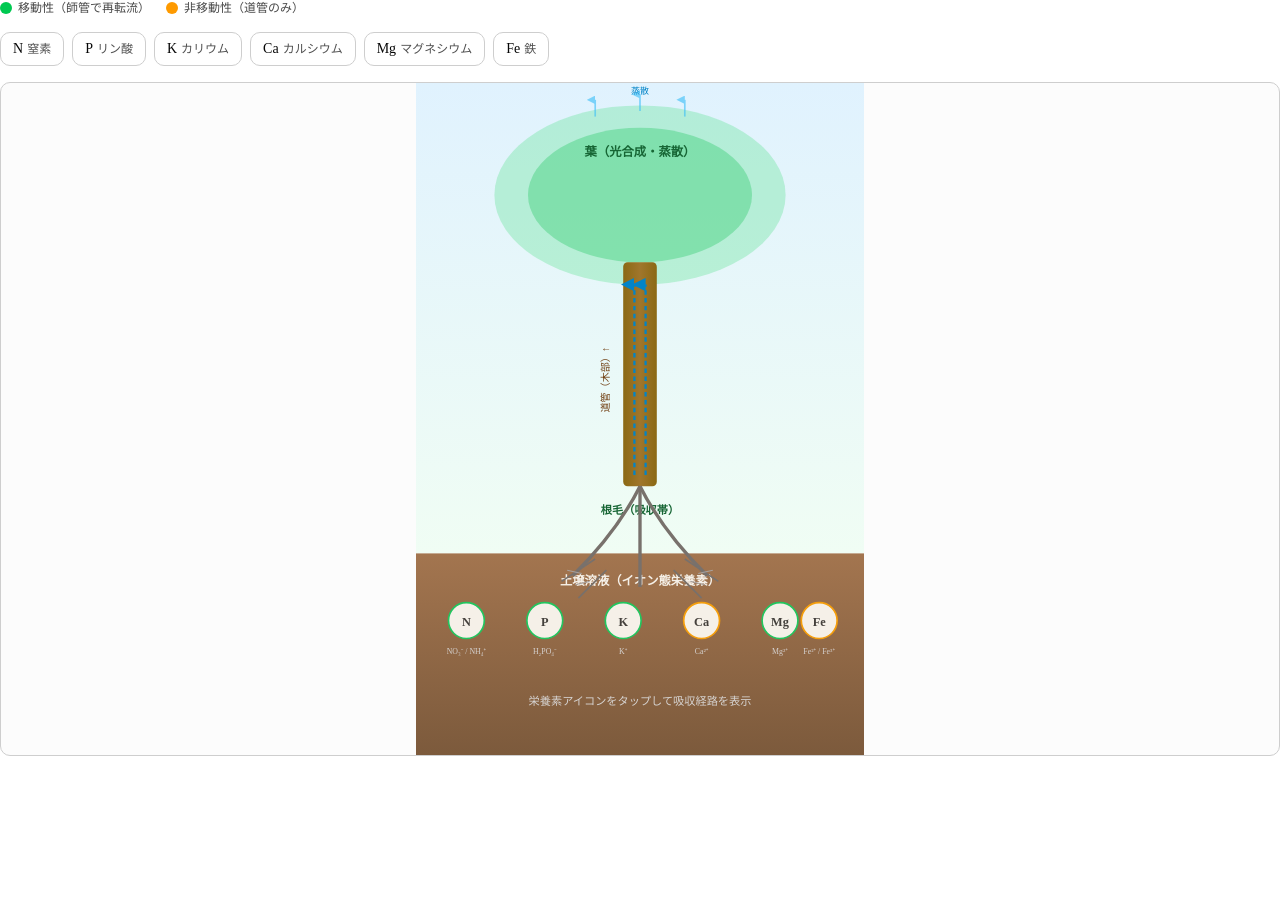
Scenario: NutrientAbsorptionDiagram › 別の栄養素ボタンをクリックすると詳細が切り替わる
What coordinates should you click on to do the following:
click the button "N窒素"
I would click on:
 (32, 49)
Its box is [0,32,64,66].
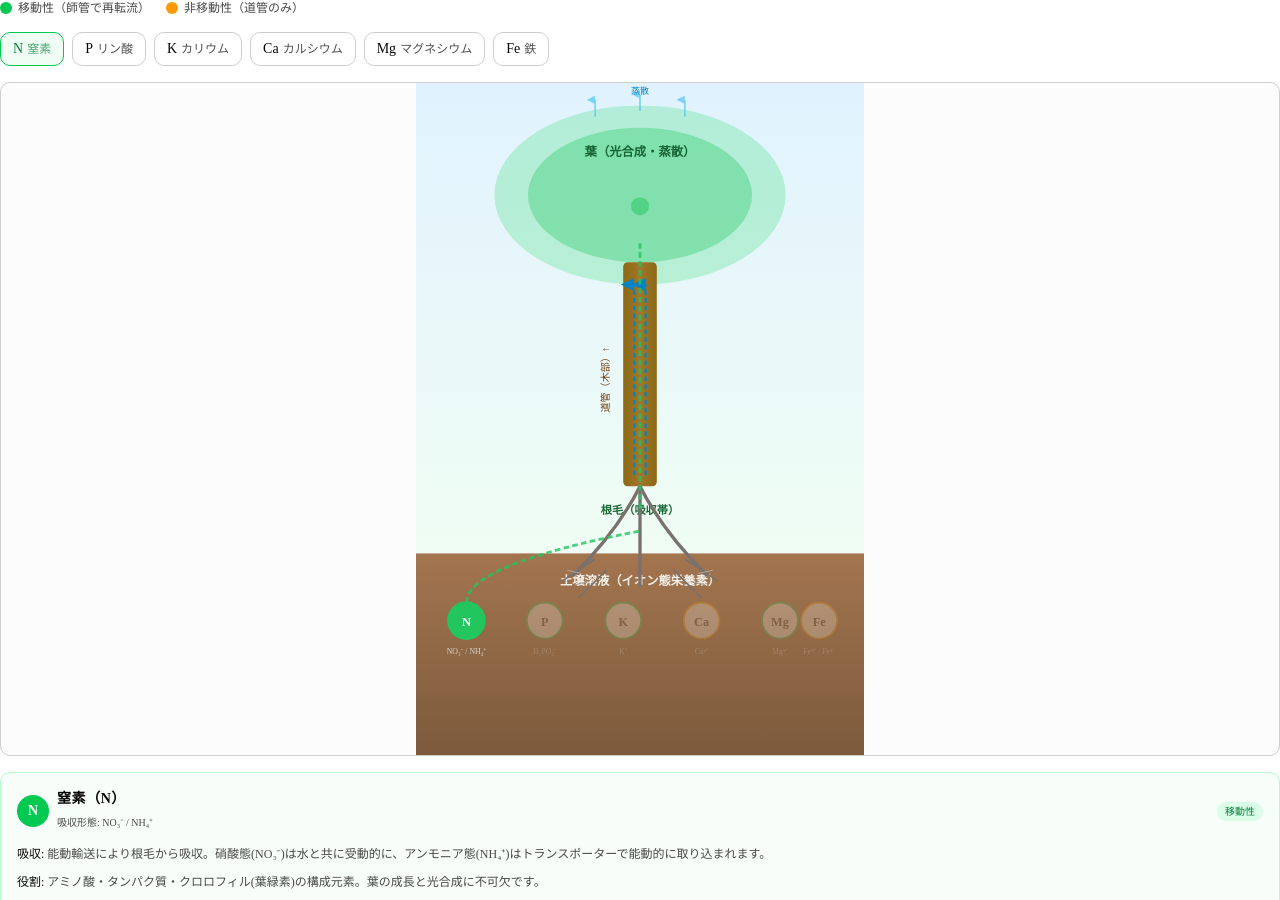
expect the heading "窒素（N）" is shown: met, box [57,791,126,806]
What coordinates should you click on to do the following:
click the 3rd button
I would click on:
 (198, 49)
Its box is [154,32,242,66].
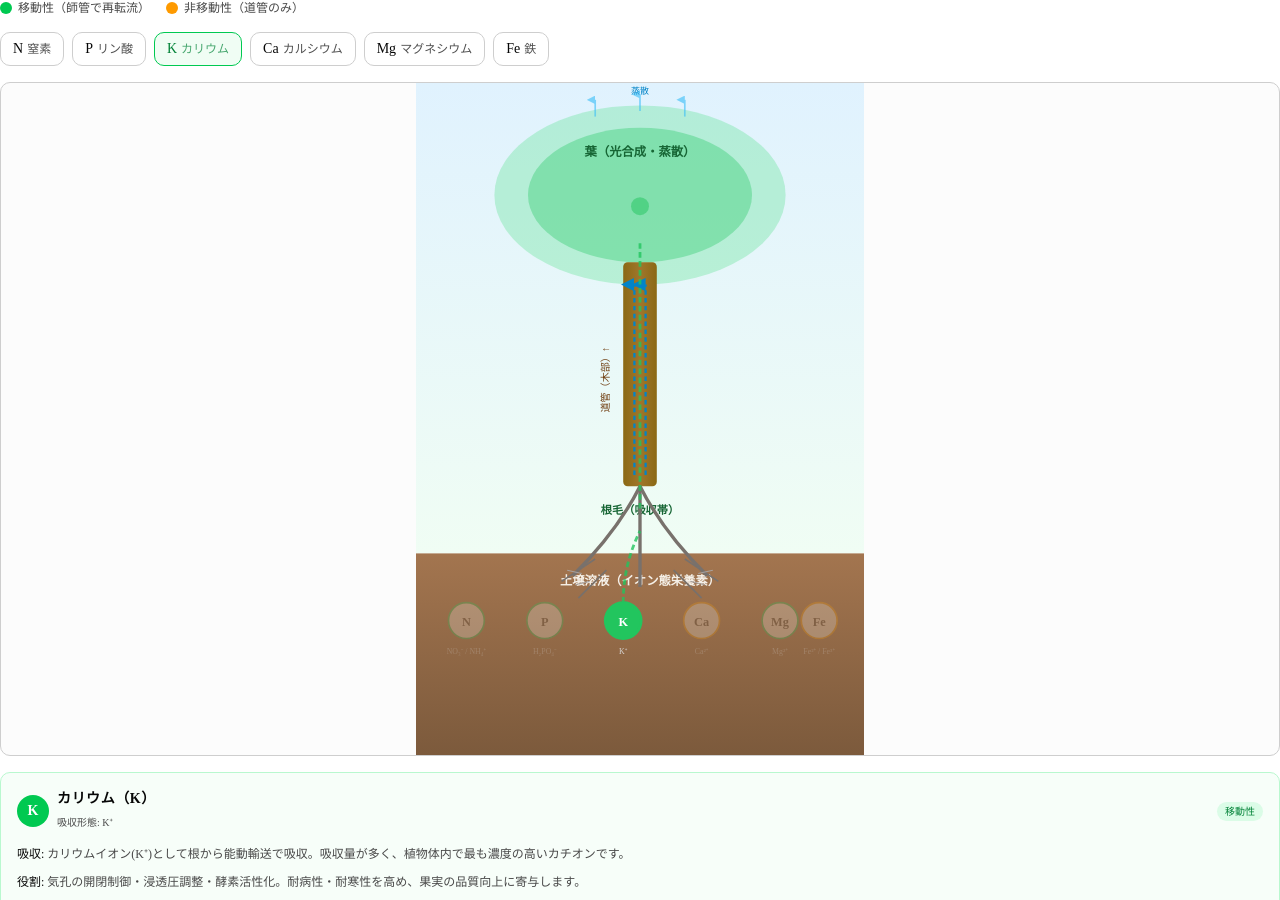
expect the heading "カリウム（K）" is shown: met, box [57,789,156,809]
expect the heading "窒素（N）" is gone: met
